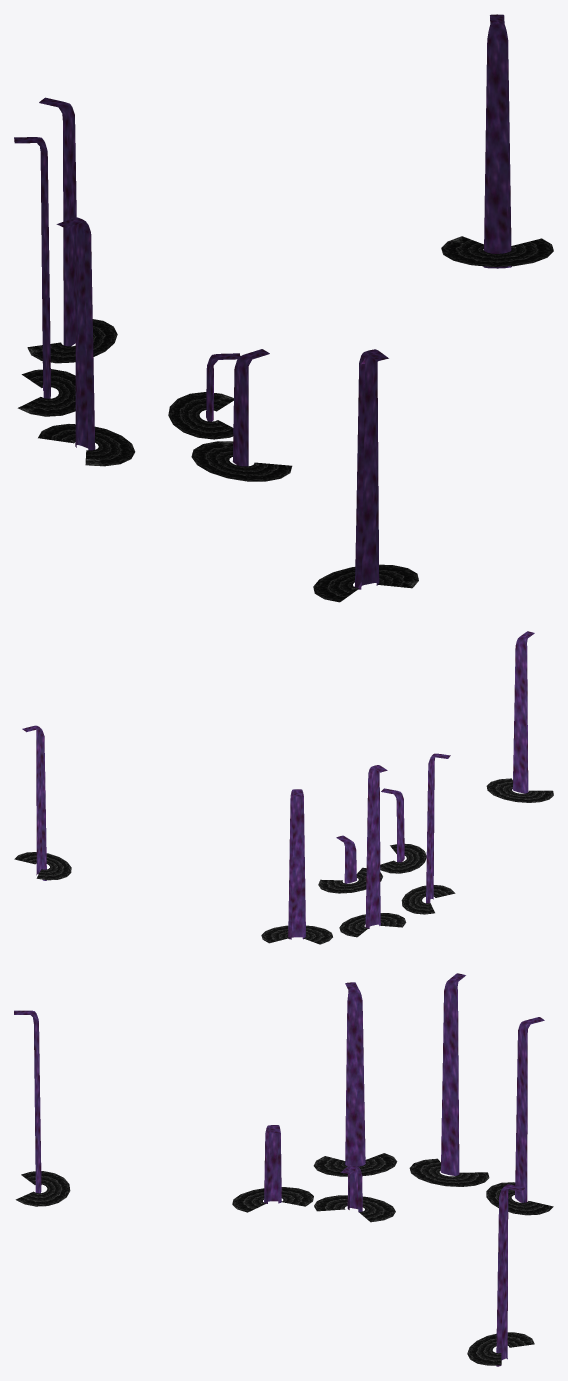
File: stg410_MotWater_05.obj
The picture shows the model from 3 angles, top to bottom: view 1: azimuth 30°, elevation 25°; view 2: azimuth 150°, elevation 25°; view 3: azimuth 270°, elevation 25°; orthographic projection. The views are drawn at different scales.
Parts seen in each view (by area): view 1: polygon6, polygon4, polygon0, polygon7, polygon3, polygon2, polygon5, polygon1; view 2: polygon6, polygon7, polygon0, polygon4, polygon3, polygon2, polygon1, polygon5; view 3: polygon6, polygon7, polygon3, polygon2, polygon4, polygon0, polygon1, polygon5.
Boxes of the visible parts, box(x1,y1,x2,y2) form: polygon6: box(14, 97, 95, 450); polygon4: box(483, 14, 511, 268); polygon0: box(354, 349, 388, 589); polygon7: box(17, 319, 135, 466); polygon3: box(168, 392, 292, 481); polygon2: box(206, 349, 269, 466); polygon5: box(441, 236, 553, 266); polygon1: box(313, 564, 418, 602); polygon6: box(288, 753, 450, 939); polygon7: box(261, 885, 455, 944); polygon0: box(512, 631, 534, 793); polygon4: box(22, 725, 46, 880); polygon3: box(318, 844, 426, 893); polygon2: box(336, 788, 404, 883); polygon1: box(486, 778, 553, 802); polygon5: box(14, 852, 71, 880); polygon6: box(345, 973, 544, 1202); polygon7: box(313, 1153, 553, 1215); polygon3: box(232, 1187, 395, 1222); polygon2: box(264, 1125, 362, 1212); polygon4: box(496, 1184, 524, 1366); polygon0: box(14, 1010, 41, 1193); polygon1: box(15, 1171, 70, 1206); polygon5: box(467, 1332, 534, 1365).
Size of what is drawn, in the model's own units: 1743 by 773 by 1866.
2 materials, 2 textured.
